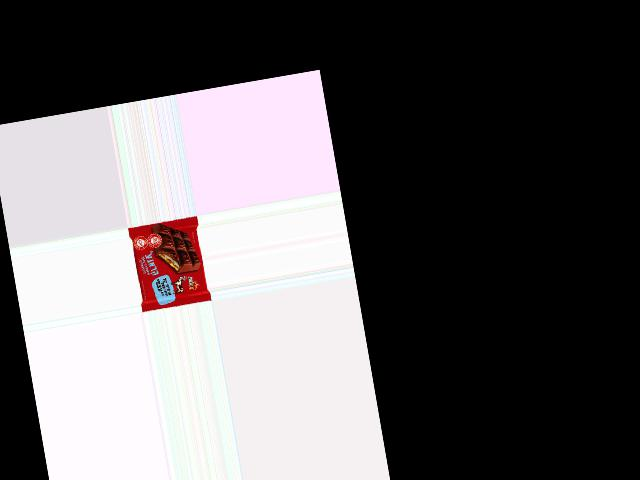chocolate: (127, 217, 210, 309)
